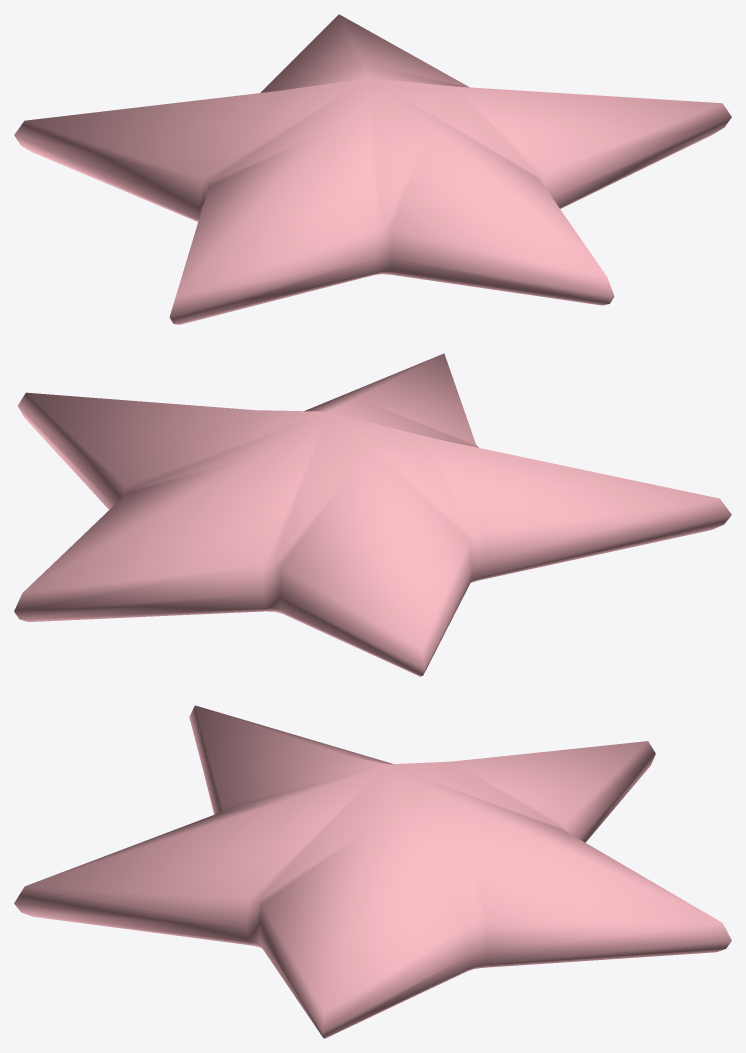
Rendered from SeaStar.fbx.
The picture shows the model from 3 angles, top to bottom: view 1: azimuth 30°, elevation 25°; view 2: azimuth 150°, elevation 25°; view 3: azimuth 270°, elevation 25°; orthographic projection. The views are drawn at different scales.
Visible parts, largest first — view 1: SeaStar; view 2: SeaStar; view 3: SeaStar.
Boxes of the visible parts, x1,y1,x2,y2 form: SeaStar: (14,14,731,324); SeaStar: (14,353,731,676); SeaStar: (14,705,731,1038).
Bounding box in the file's own units: 2.07 × 0.4054 × 1.99.
